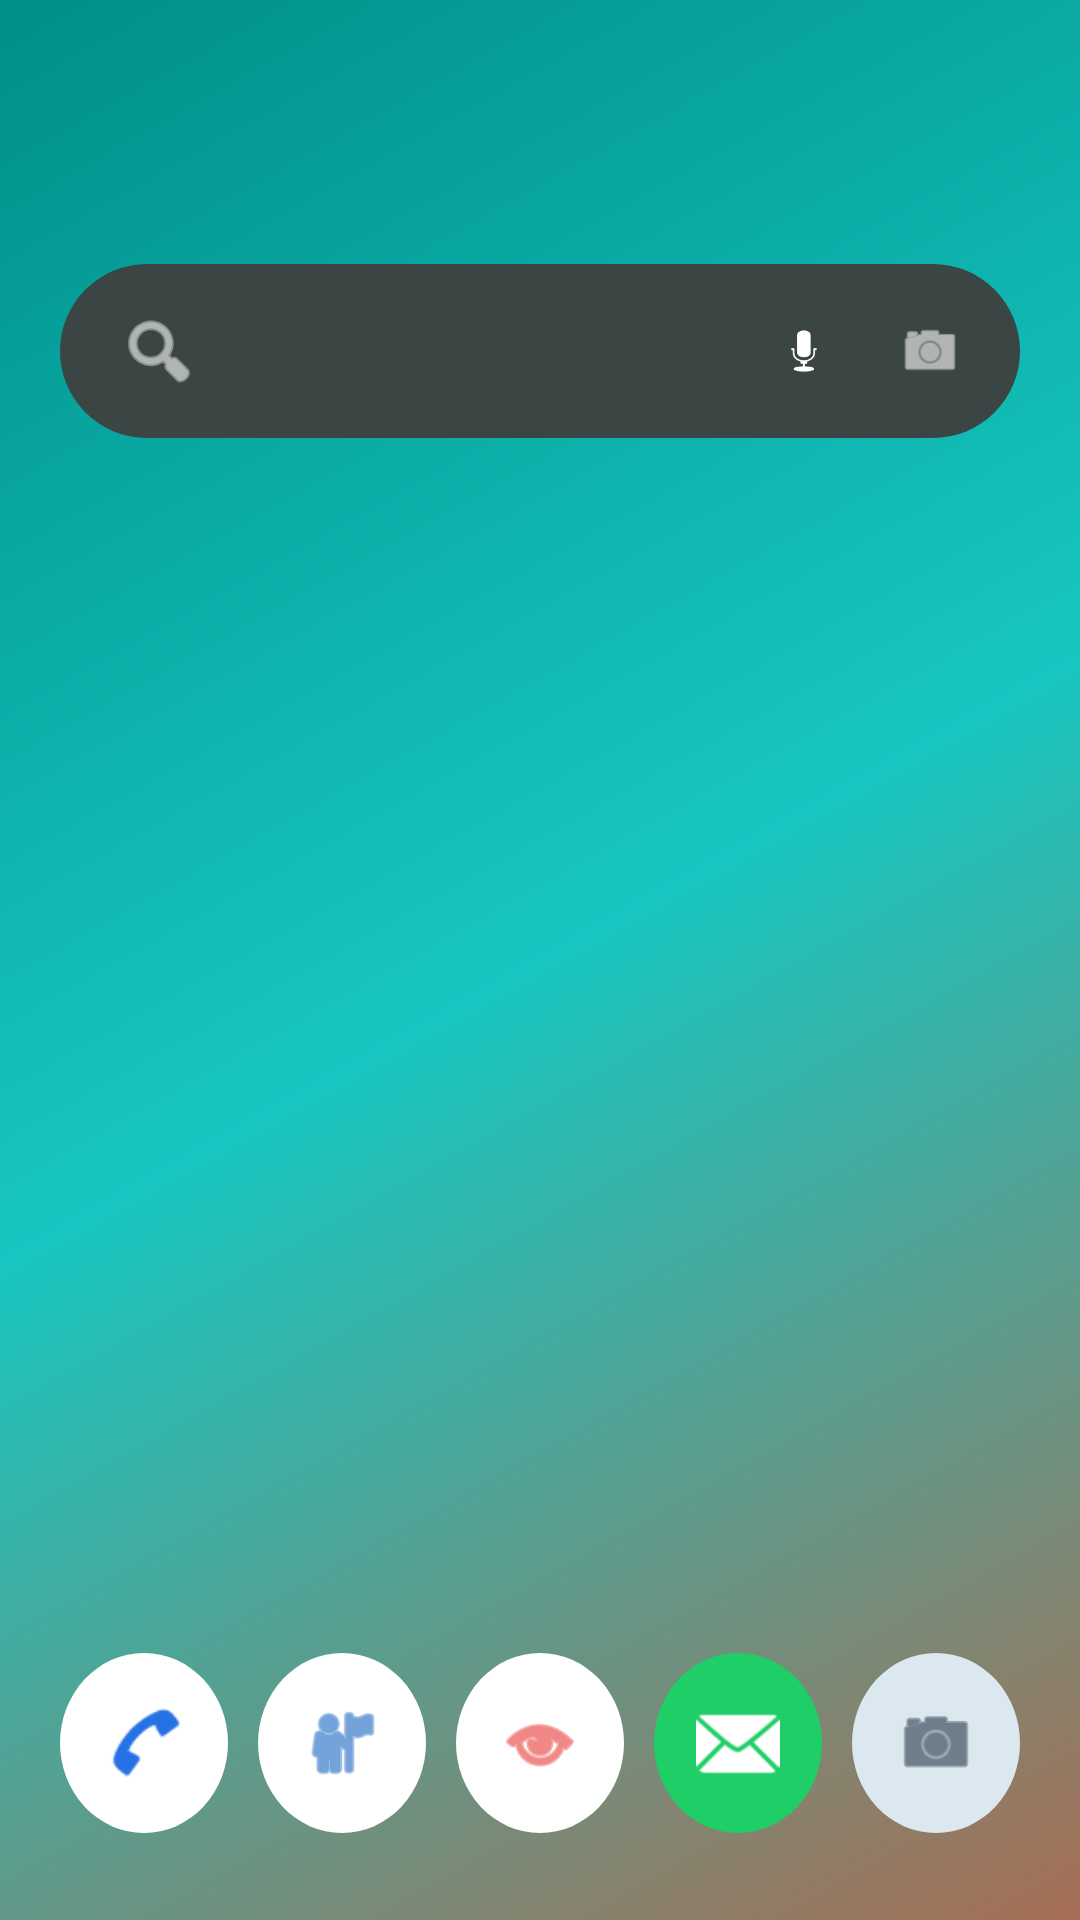

Named icons in this screenshot (1080w x 1920h) and their centers, (x,y):
Câmera: (930,350), (936,1743)
Mensagens: (738,1743)
Pesquisa: (159,351)
Telefone: (144,1743)
Voz: (804,351)
